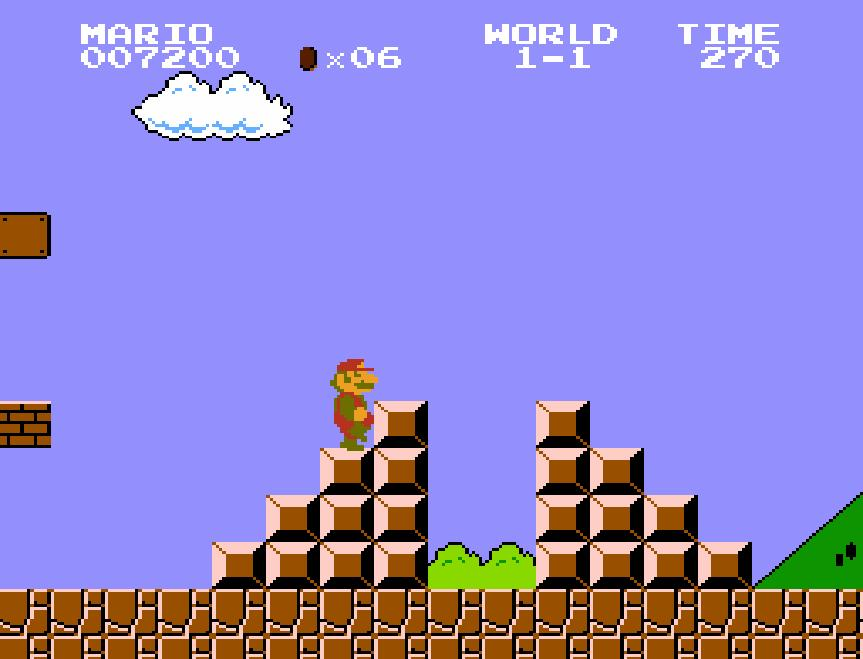big_mario: (328, 354, 386, 452)
